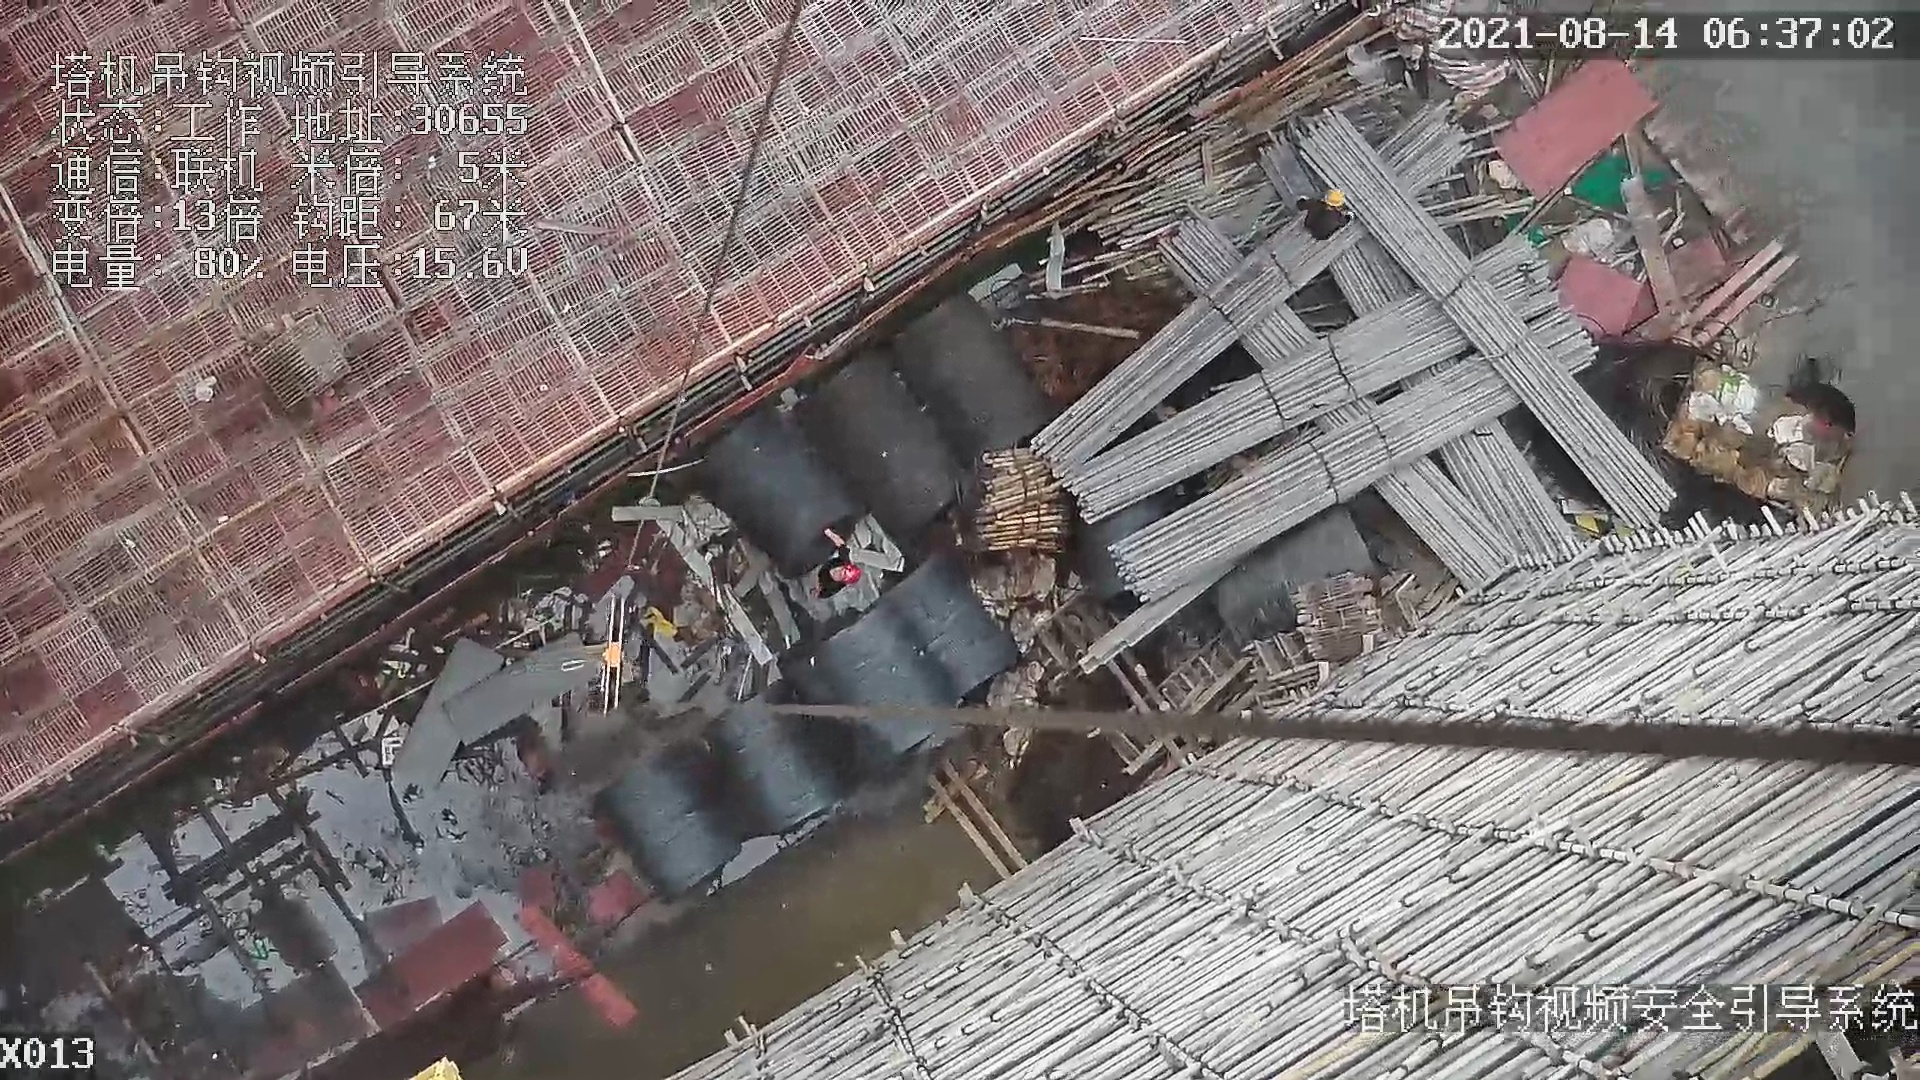helmet: (842, 562, 862, 588), (1325, 186, 1343, 207)
hook: (560, 591, 638, 714)
person: (1288, 176, 1354, 244), (810, 521, 859, 599)
scaffold: (1083, 94, 1683, 591), (969, 439, 1078, 562)
